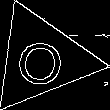O_N: (15, 31, 68, 87)
